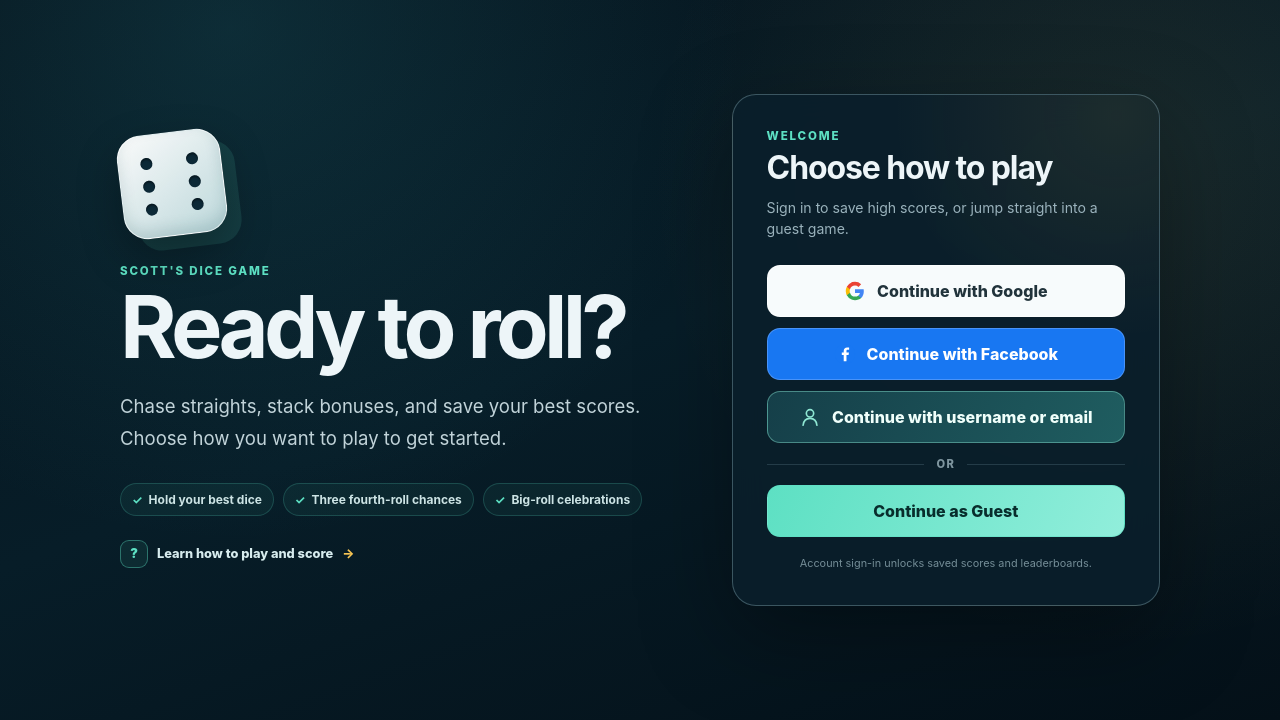
Test: AuthLanding › returns from username authentication to all sign-in options
Click the button "Continue with username or email" at {"x": 946, "y": 417}, box [767,391,1125,443]
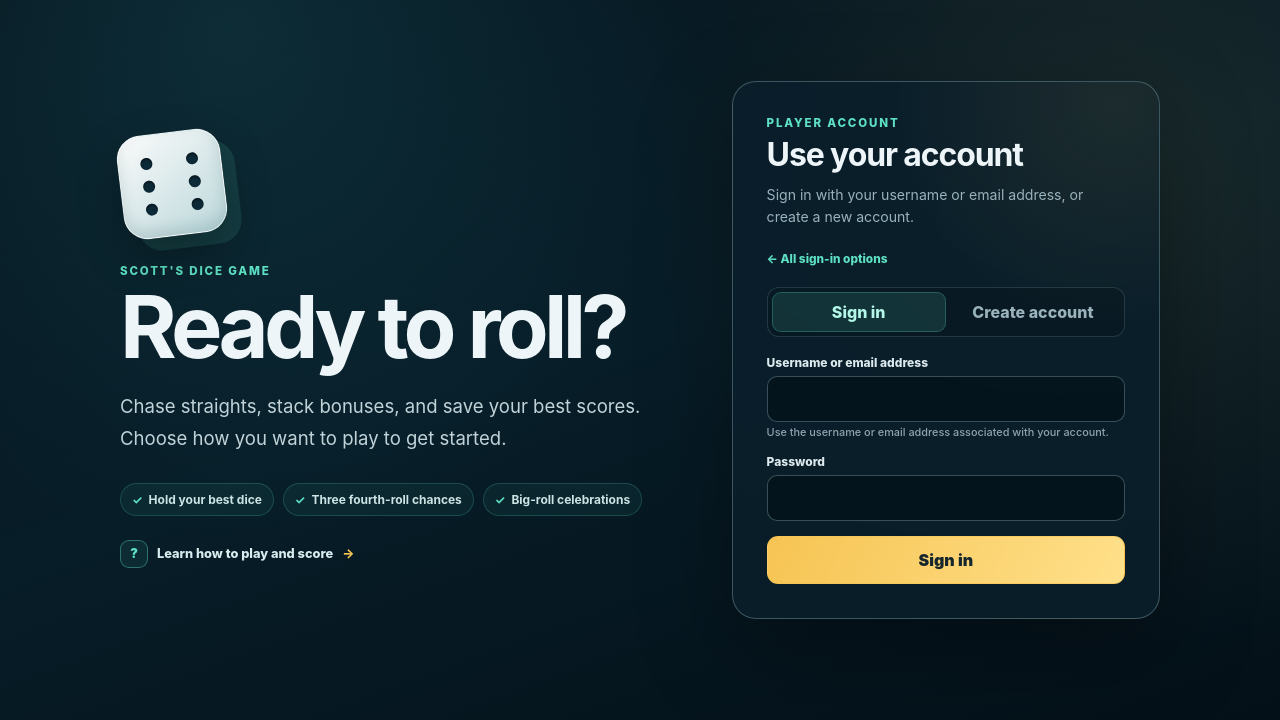
Click the button "← All sign-in options" at {"x": 827, "y": 259}, box [767,247,888,271]
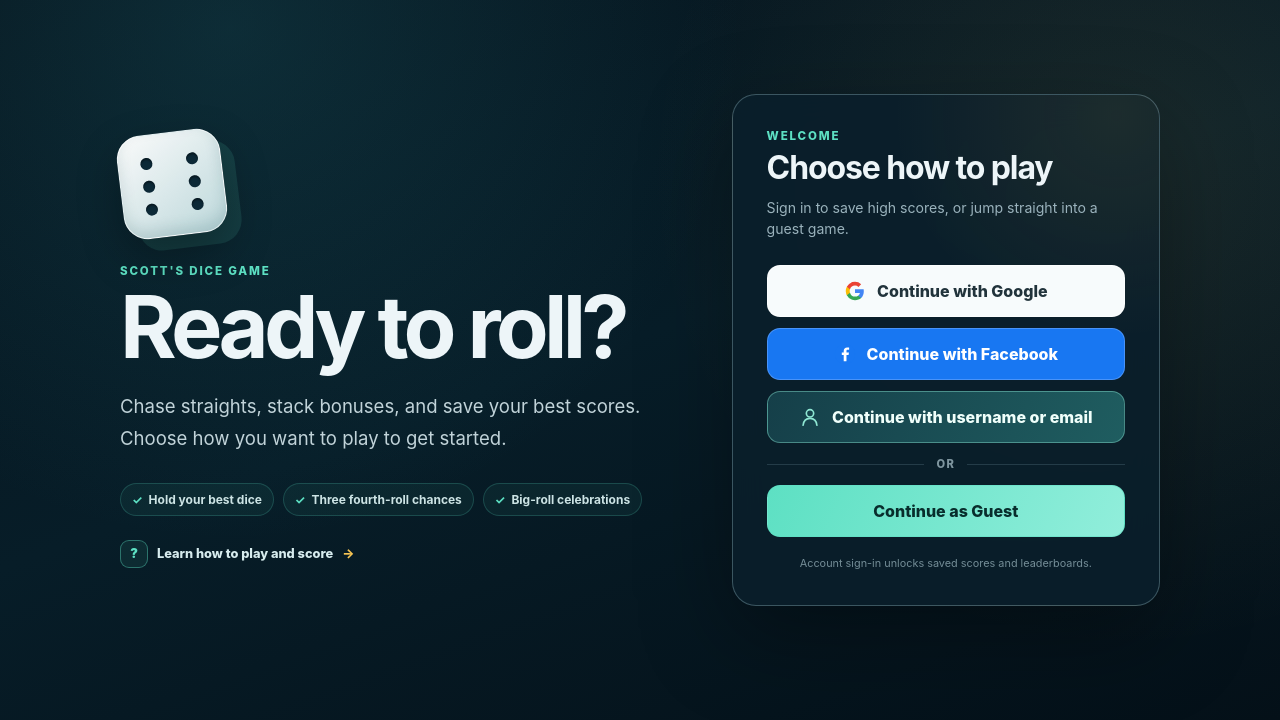
Expected: the heading "Choose how to play" is shown, [767,148,1052,186]
Expected: the button "Continue with username or email" is enabled, [767,391,1125,443]
